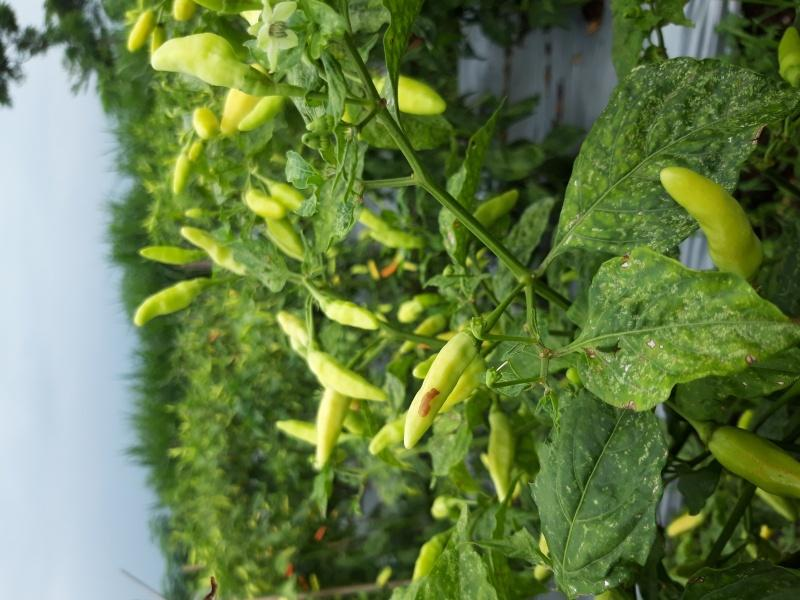antraknosa: (404, 335, 478, 448)
cabai_normal: (660, 167, 763, 277), (707, 425, 800, 498), (149, 33, 249, 89), (311, 356, 385, 404), (179, 225, 245, 274), (375, 73, 447, 114), (486, 410, 516, 503), (316, 386, 350, 466), (468, 188, 519, 234), (137, 284, 190, 324), (266, 215, 305, 256), (326, 298, 375, 330), (245, 188, 287, 219), (140, 245, 195, 265)
